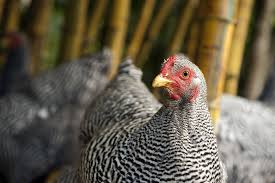chicken: (71, 44, 234, 183)
